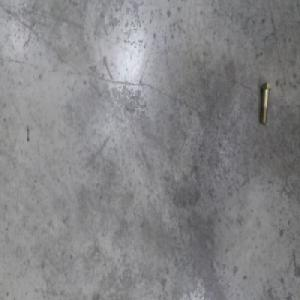Bolt: (256, 81, 269, 124)
